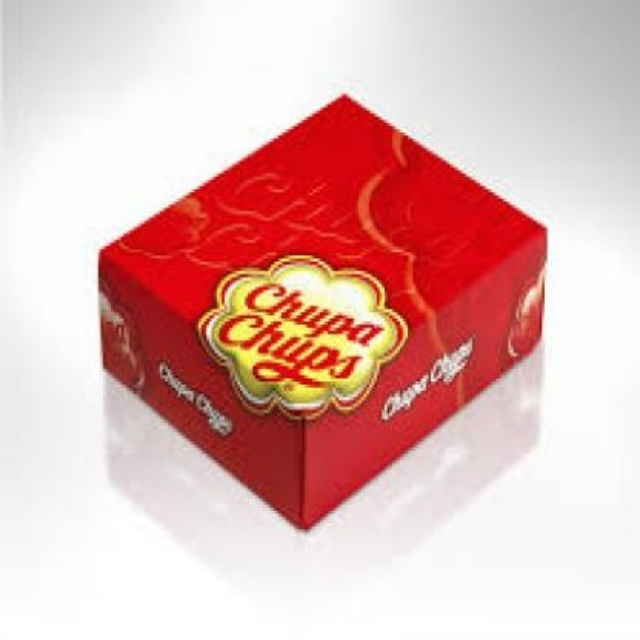trash: (98, 95, 545, 528)
